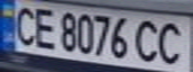0: (72, 10, 93, 55)
6: (109, 14, 136, 61)
7: (90, 11, 112, 57)
8: (54, 9, 78, 53)
C: (151, 18, 190, 68), (130, 17, 166, 64), (6, 2, 42, 47)
E: (30, 3, 60, 51)
